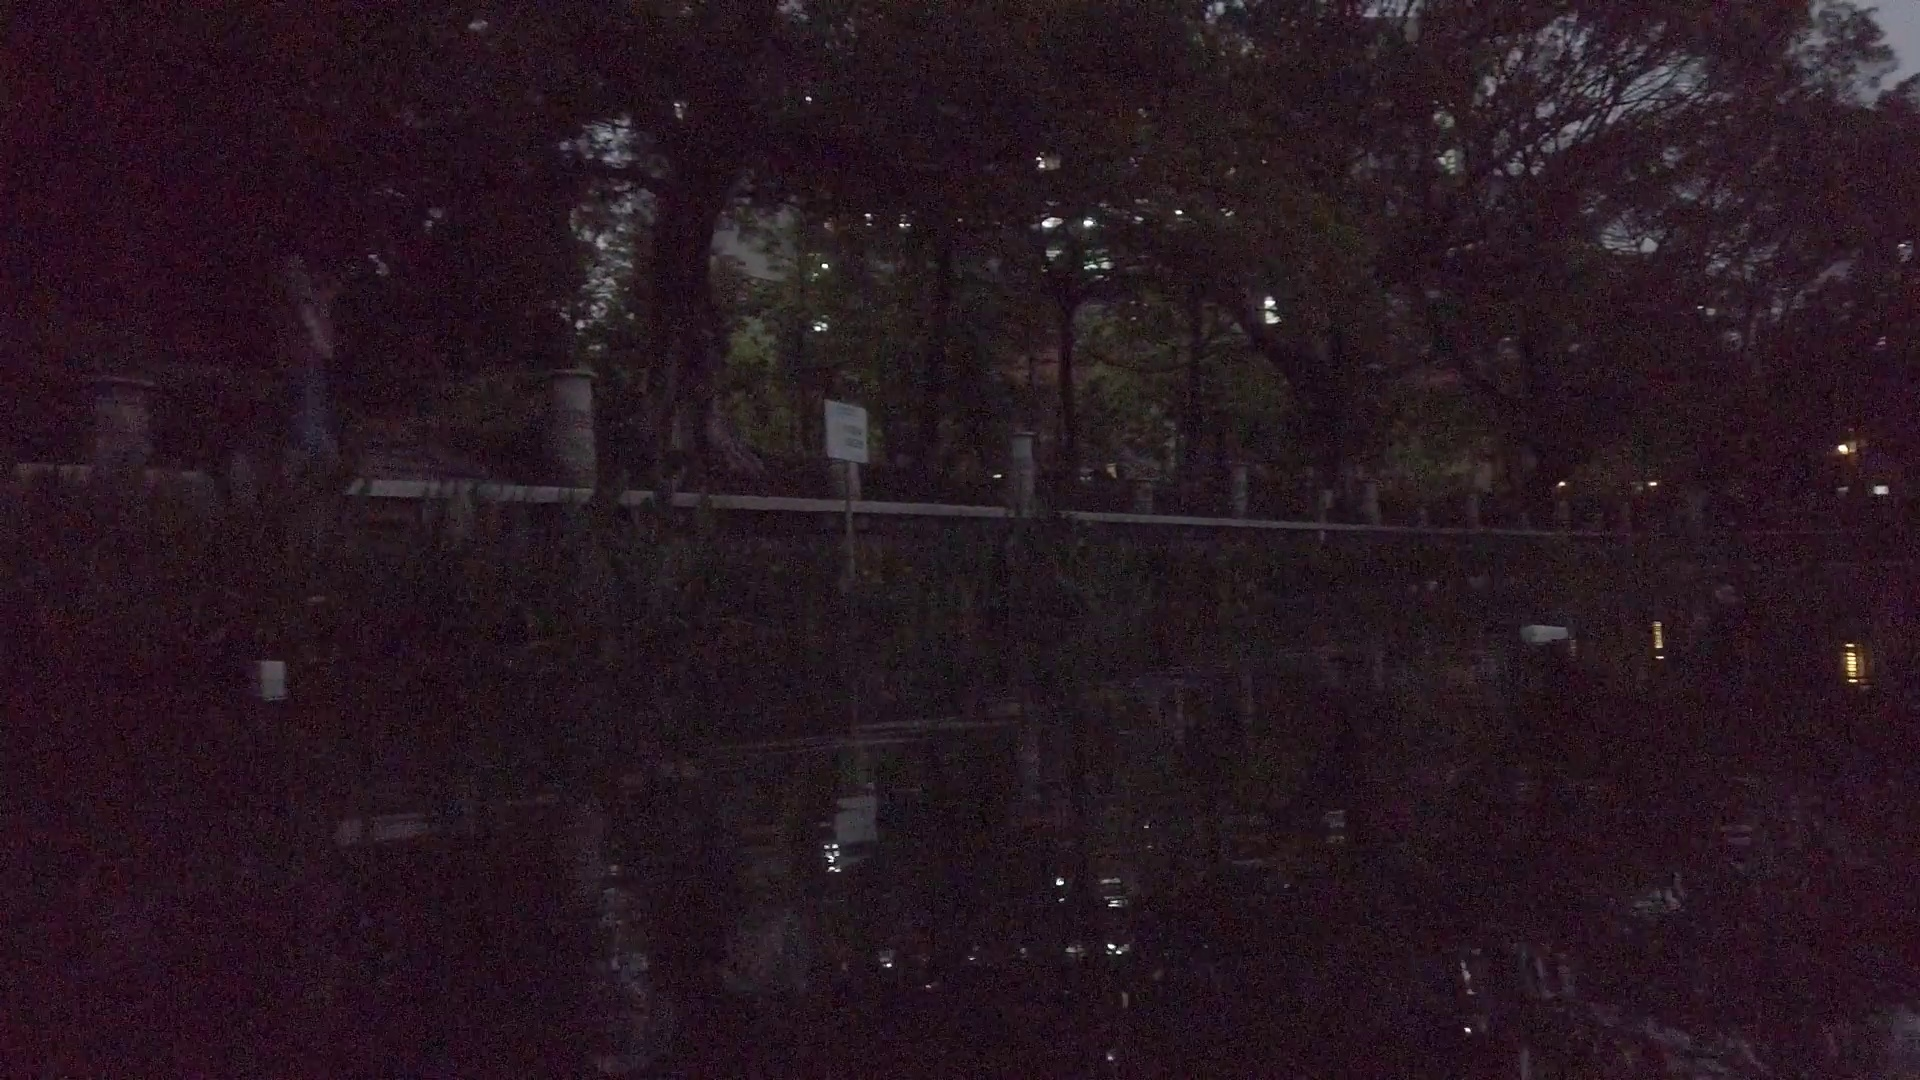bottle: (1709, 582, 1741, 604)
carton: (1518, 622, 1573, 642), (251, 659, 285, 686)
